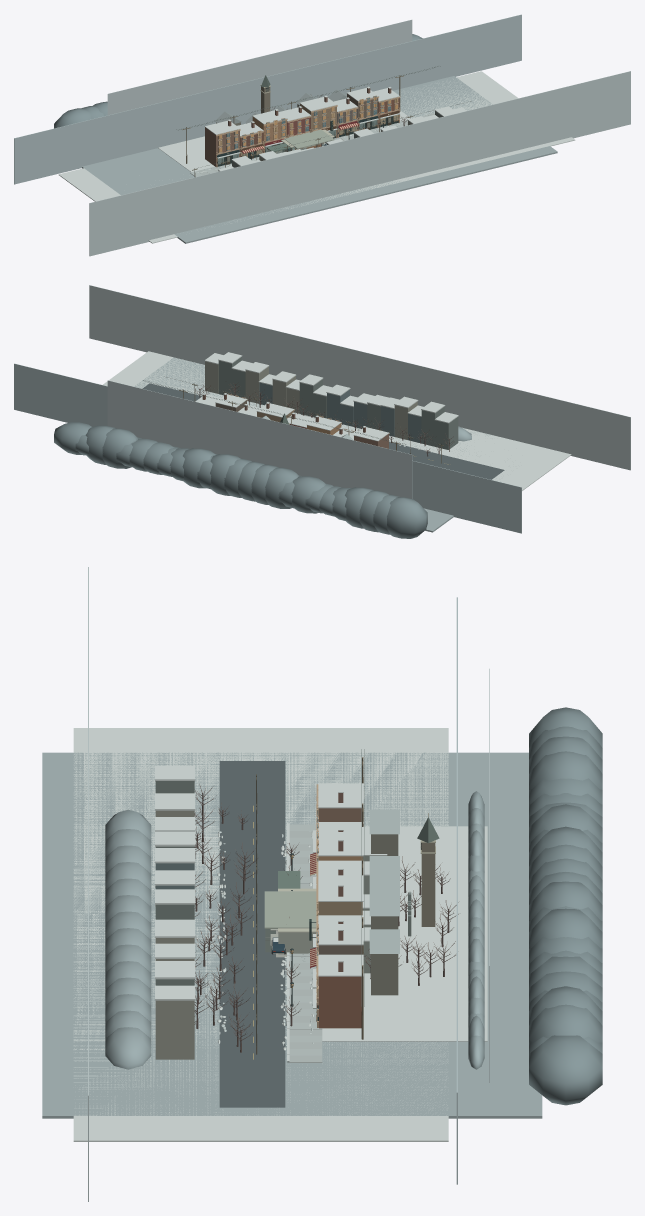
Rendered from exteriors.glb.
3 renders of one model, top to bottom at view 1: azimuth 30°, elevation 25°; view 2: azimuth 150°, elevation 25°; view 3: azimuth 270°, elevation 25°, orthographic. The views are drawn at different scales.
Visible parts, largest first — view 1: Coach_frame c4d2d2, Coach_frame b9cacc, Street_miniature a7b7b8, Depot_shell c2d0d1, Coach_frame d7e1de, Street_miniature d7e1de, Street_miniature c1ac93, Depot_shell d7e1de, ExtRooftop 839598, Street_miniature 8e7767, Street_miniature c3ac90, Terminal_shell aab6a9 (+5 smaller); view 2: Coach_frame c4d2d2, Depot_shell c2d0d1, ExtRooftop 839598, Coach_frame b9cacc, Coach_frame d7e1de, Street_miniature d7e1de, Street_miniature 7e8c87, Street_miniature 9a9e92, Street_miniature a7b7b8, Street_miniature 75888a, Street_miniature 616d70, ExtScenery 665a55; view 3: Street_miniature a7b7b8, Coach_frame d7e1de, ExtRooftop 839598, Street_miniature 616d70, Depot_shell d7e1de, Street_miniature d7e1de, ExtScenery 99aaac, Depot_shell 9caeb0, ExtRooftop a5b3b2, Street_miniature 9a9e92, ExtScenery 665a55, Street_miniature bcc8c6 (+9 smaller).
Part boxes in pixels (x1,y1,x2,y2): Coach_frame c4d2d2: (89,71,630,256); Coach_frame b9cacc: (14,14,521,184); Street_miniature a7b7b8: (82,76,557,243); Depot_shell c2d0d1: (107,19,412,115); Coach_frame d7e1de: (58,71,575,243); Street_miniature d7e1de: (204,86,466,171); Street_miniature c1ac93: (218,95,398,153); Depot_shell d7e1de: (158,110,410,172); ExtRooftop 839598: (54,34,422,128); Street_miniature 8e7767: (205,127,239,166); Street_miniature c3ac90: (216,96,400,154); Terminal_shell aab6a9: (284,129,334,148); Coach_frame c4d2d2: (89,285,630,470); Depot_shell c2d0d1: (107,380,412,498); ExtRooftop 839598: (54,422,427,538); Coach_frame b9cacc: (14,363,521,533); Coach_frame d7e1de: (103,351,571,490); Street_miniature d7e1de: (195,352,458,451); Street_miniature 7e8c87: (218,357,458,449); Street_miniature 9a9e92: (205,361,417,439); Street_miniature a7b7b8: (134,357,500,532); Street_miniature 75888a: (259,382,421,443); Street_miniature 616d70: (142,383,504,479); ExtScenery 665a55: (197,382,452,456); Street_miniature a7b7b8: (42,752,542,1118); Coach_frame d7e1de: (73,728,448,1141); ExtRooftop 839598: (529,707,602,1105); Street_miniature 616d70: (219,761,285,1107); Depot_shell d7e1de: (322,826,487,1041); Street_miniature d7e1de: (155,765,363,1061); ExtScenery 99aaac: (105,809,151,1069); Depot_shell 9caeb0: (468,791,484,1069); ExtRooftop a5b3b2: (369,809,399,953); Street_miniature 9a9e92: (155,810,194,1059); ExtScenery 665a55: (194,784,255,1052); Street_miniature bcc8c6: (289,824,322,1055).
Bounding box in the file's own units: 160 × 19.33 × 71.7.
